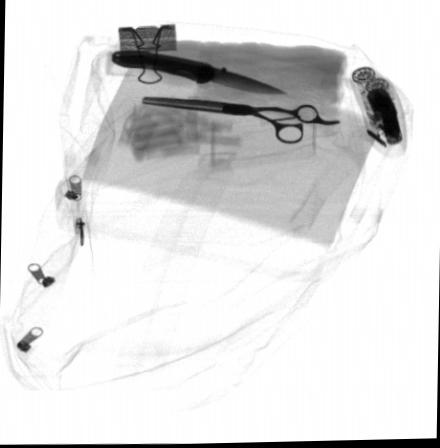Knife: (109, 51, 286, 95)
Scissors: (140, 96, 341, 146)
